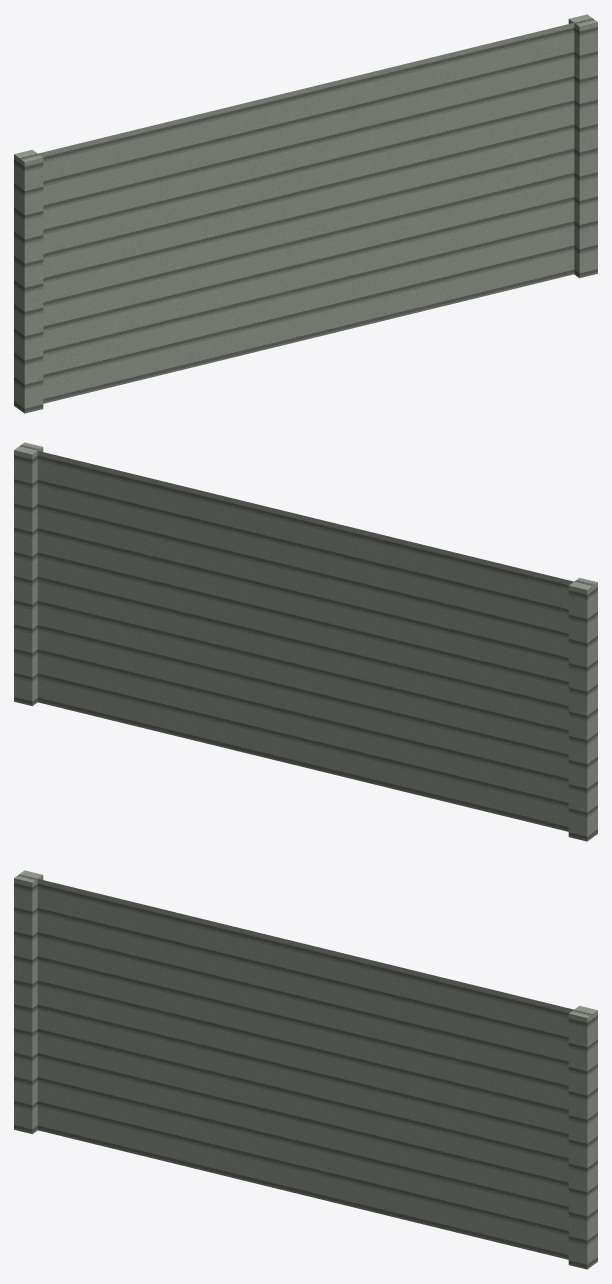
File: fence_field_woven_wire.glb
3 views of the same model, one above another, from view 1: azimuth 30°, elevation 25°; view 2: azimuth 150°, elevation 25°; view 3: azimuth 330°, elevation 25° (orthographic).
Visible parts, largest first — view 1: fence_field_woven_wire-col; view 2: fence_field_woven_wire-col; view 3: fence_field_woven_wire-col.
Part boxes in pixels (x1=…): fence_field_woven_wire-col: x1=14, y1=14, x2=597, y2=413; fence_field_woven_wire-col: x1=14, y1=442, x2=597, y2=841; fence_field_woven_wire-col: x1=14, y1=870, x2=597, y2=1269.
Size of the model in its own units: 3.1 by 1.3 by 0.1.
Materials: 1 (1 with a texture image).
